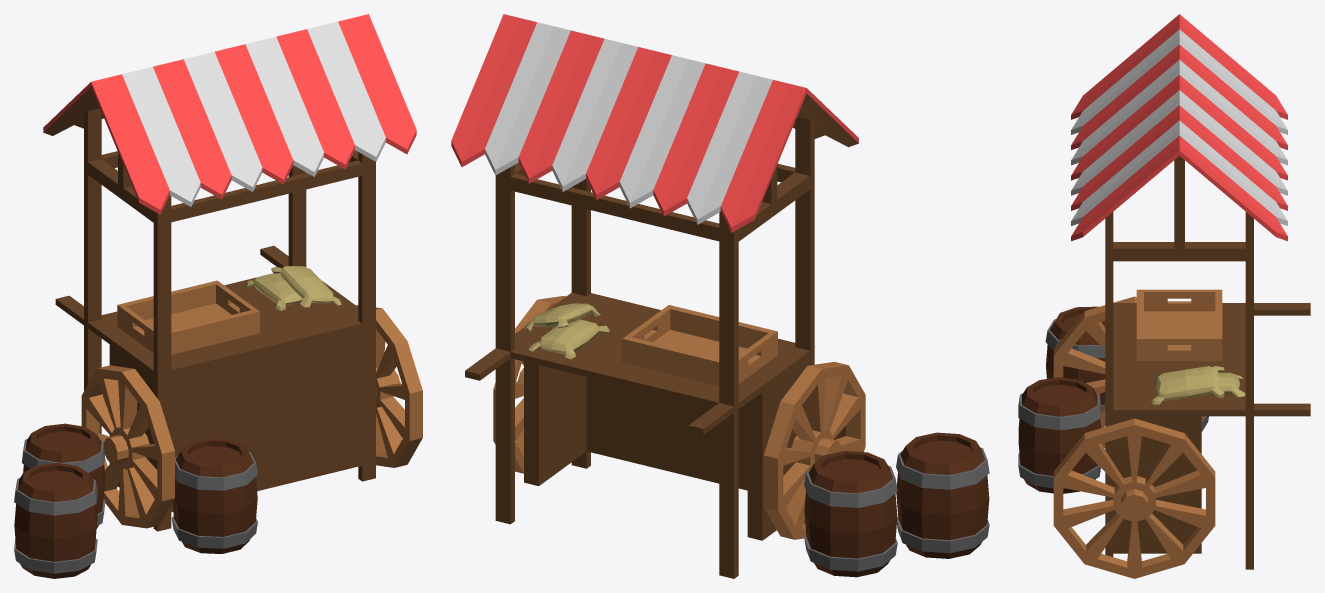
The model's file is saleCart.fbx.
3 views of the same model, side by side, from view 1: azimuth 30°, elevation 25°; view 2: azimuth 150°, elevation 25°; view 3: azimuth 270°, elevation 25° (orthographic). The views are drawn at different scales.
Parts seen in each view (by area): view 1: pCube1, pCube2, pCylinder2, barrel, barrel2, pCube3, pCylinder1, barrel1, flour1, flour; view 2: pCube1, pCube2, pCylinder2, barrel1, barrel2, pCube3, pCylinder1, flour, flour1; view 3: pCube2, pCube1, pCylinder1, barrel, pCube3, pCylinder2, barrel2, flour1, flour.
Part boxes in pixels (bbox=[...]): pCube1: bbox=[55, 108, 375, 531]; pCube2: bbox=[43, 14, 416, 214]; pCylinder2: bbox=[81, 365, 174, 528]; barrel: bbox=[171, 438, 257, 553]; barrel2: bbox=[14, 463, 97, 578]; pCube3: bbox=[117, 280, 259, 354]; pCylinder1: bbox=[356, 305, 422, 467]; barrel1: bbox=[22, 423, 105, 528]; flour1: bbox=[271, 266, 341, 307]; flour: bbox=[245, 273, 302, 310]; pCube1: bbox=[465, 117, 814, 578]; pCube2: bbox=[451, 14, 858, 232]; pCylinder2: bbox=[763, 362, 865, 539]; barrel1: bbox=[804, 451, 897, 577]; barrel2: bbox=[896, 432, 989, 558]; pCube3: bbox=[622, 305, 777, 385]; pCylinder1: bbox=[493, 296, 565, 473]; flour: bbox=[528, 319, 609, 359]; flour1: bbox=[524, 303, 600, 332]; pCube2: bbox=[1071, 14, 1287, 241]; pCube1: bbox=[1105, 156, 1310, 569]; pCylinder1: bbox=[1053, 418, 1215, 578]; barrel: bbox=[1018, 377, 1101, 493]; pCube3: bbox=[1136, 289, 1222, 360]; pCylinder2: bbox=[1053, 296, 1204, 448]; barrel2: bbox=[1045, 306, 1105, 406]; flour1: bbox=[1151, 365, 1224, 404]; flour: bbox=[1206, 372, 1245, 397].
Size of the model in its own units: 213 by 221 by 135.
